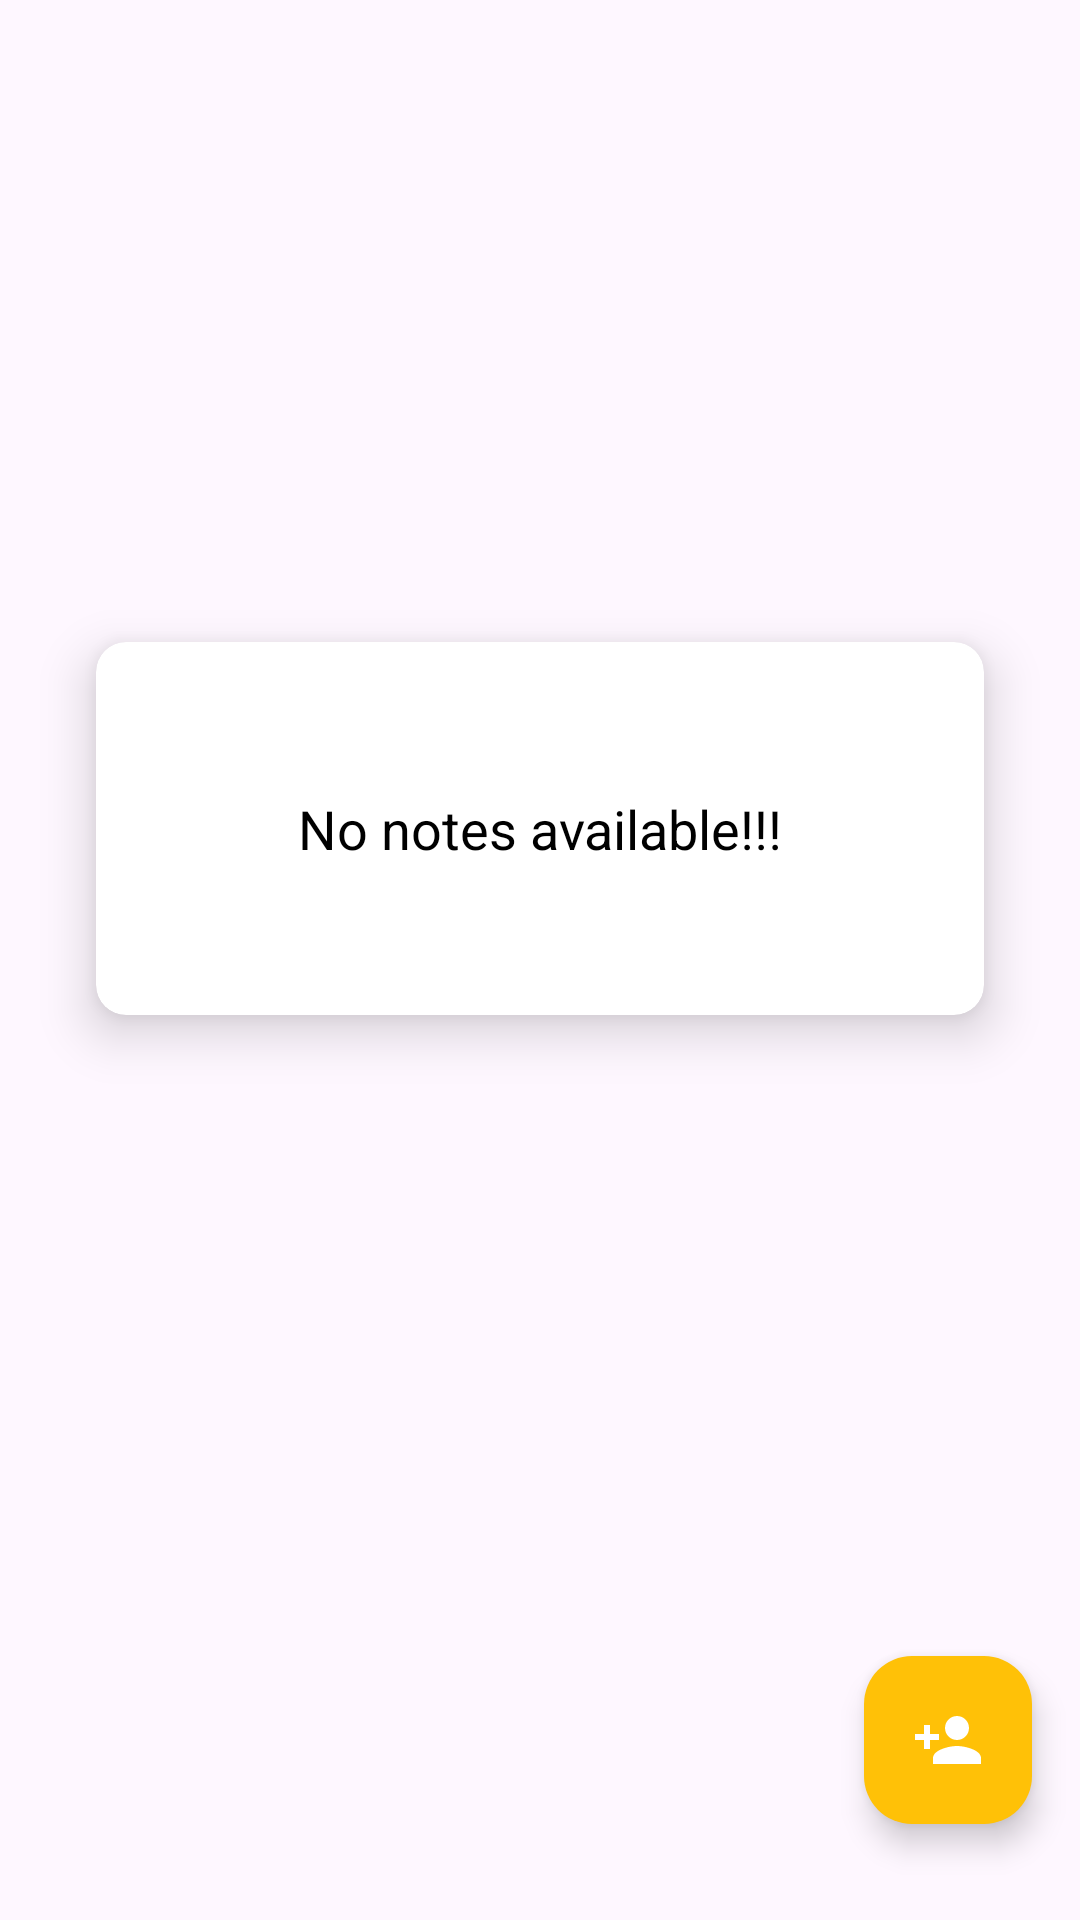

Where to tap for icons on this 1080*1920 app screen, as (x=x, y=y):
add: (x=948, y=1740)
